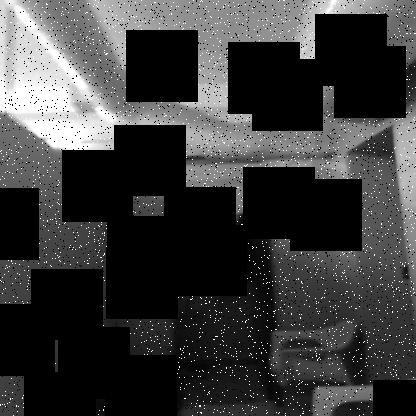Porte: (160, 180, 281, 416)
